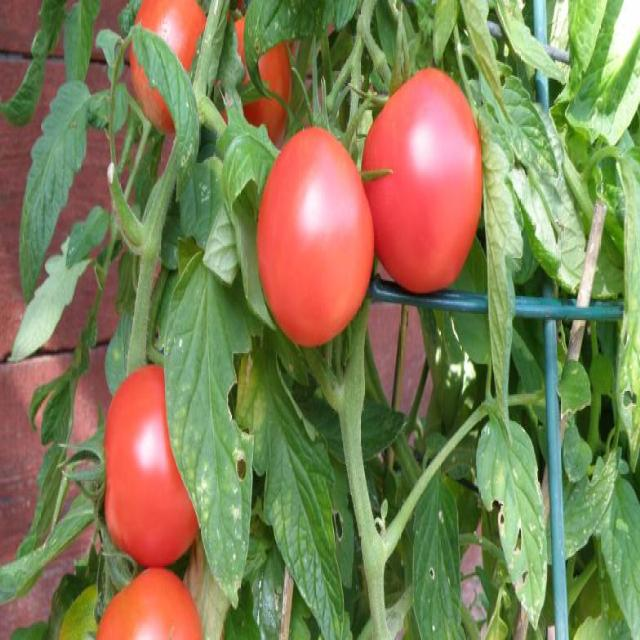kirmizi: (368, 62, 487, 298), (101, 327, 212, 562), (260, 111, 368, 348)
